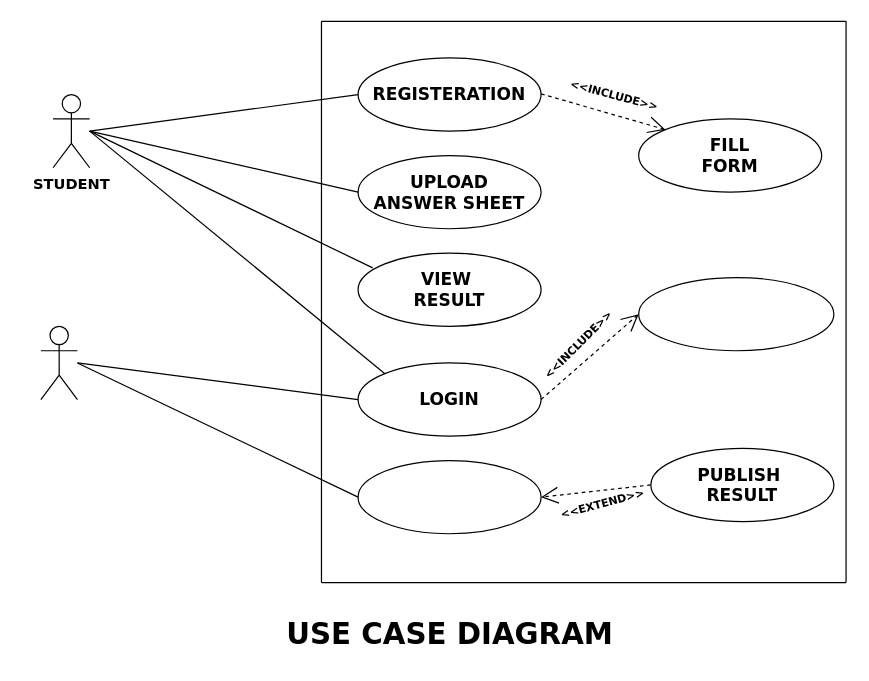
Some shapes in this 869 by 681 pixel diagram are drawn without their labels. Here are the shapes that lost their labels. From the top down, the box of each, then its label:
(637, 276, 834, 351): AUTHENTICATION
(40, 325, 77, 400): TEACHER
(357, 459, 541, 534): DECLARE RESULT
